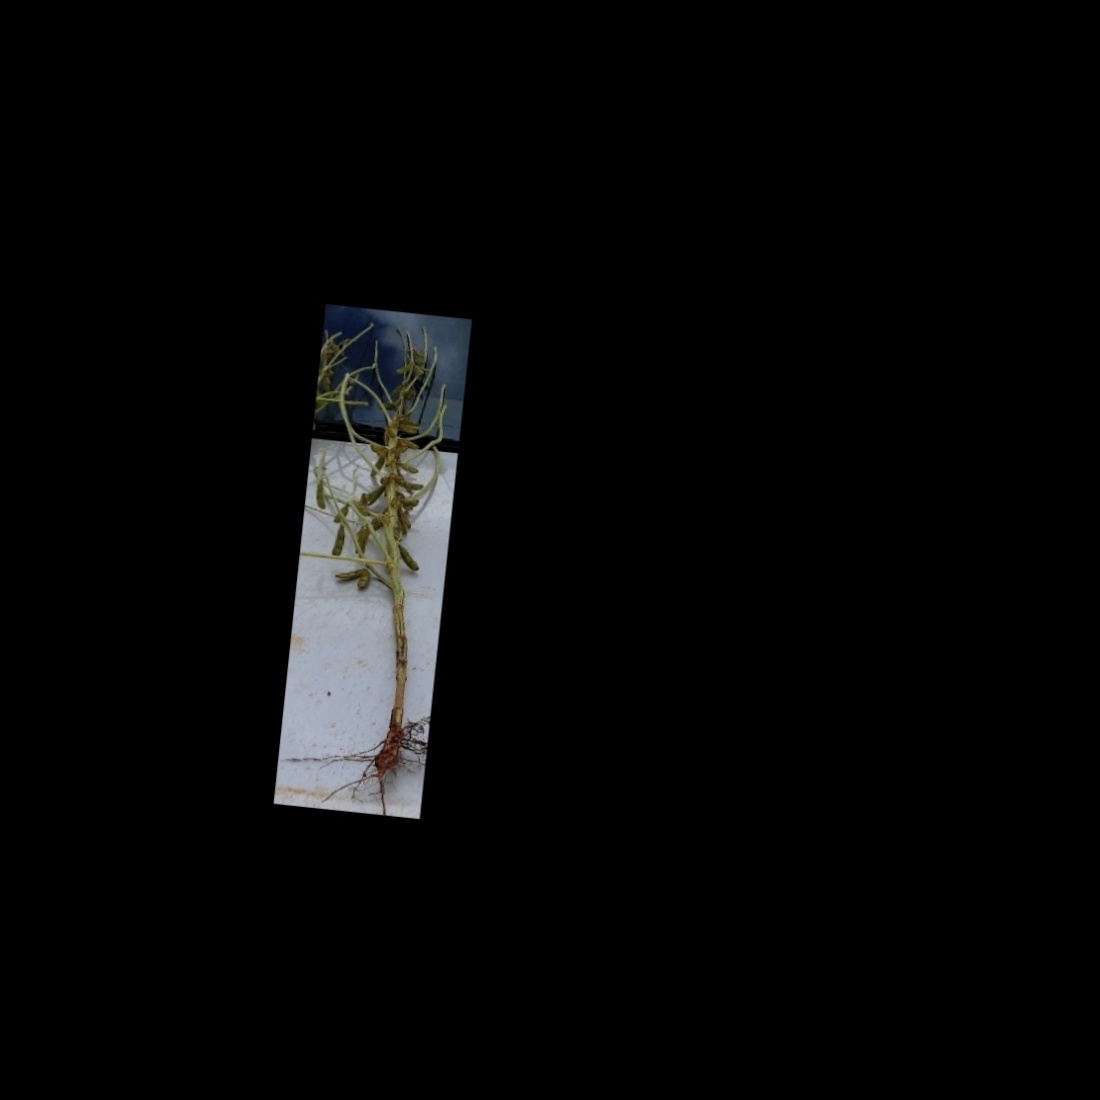pod: (395, 545, 422, 573), (327, 523, 349, 558), (310, 482, 328, 512), (394, 477, 427, 492), (356, 566, 373, 592)
soy: (281, 322, 464, 801)
